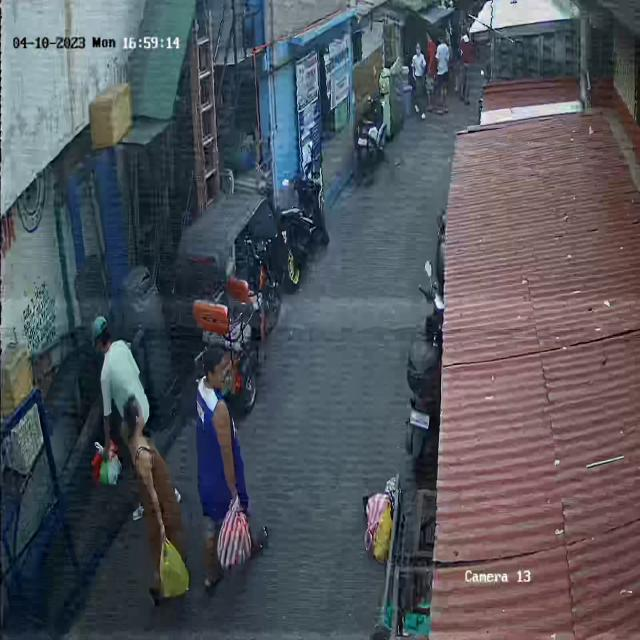garbage_dumping: (362, 470, 400, 573), (213, 495, 256, 569), (155, 526, 190, 599), (91, 433, 122, 490)
